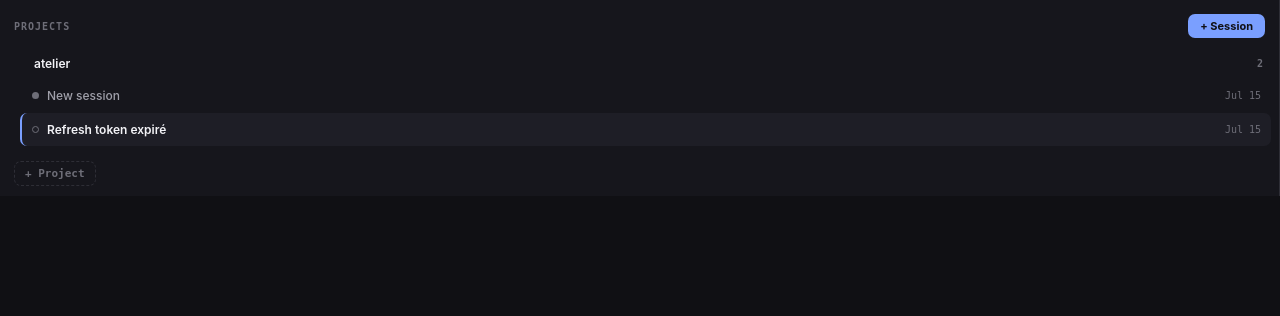
Test: SessionSidebar projects › the register form auto-closes when the registration lands (projects list grows)
Click the button "+ Project": (55, 174) [14,161,96,186]
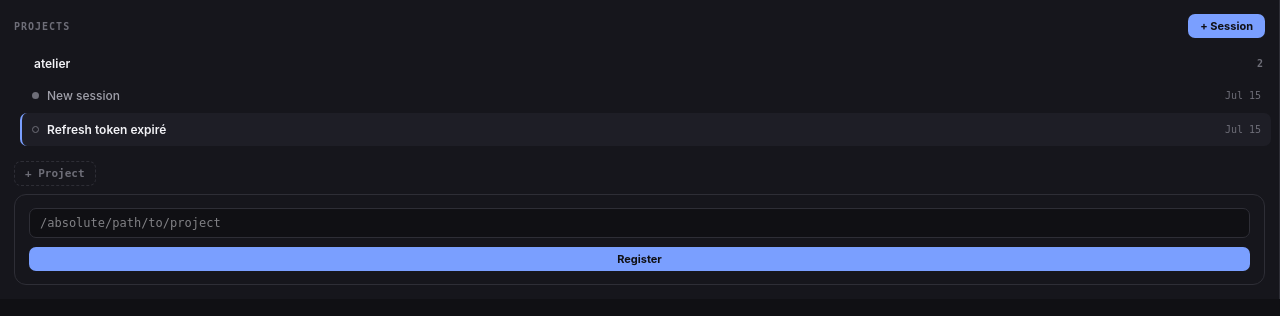
Check: the field with placeholder "/absolute/path/to/project" is shown, box [29,208,1250,238]
